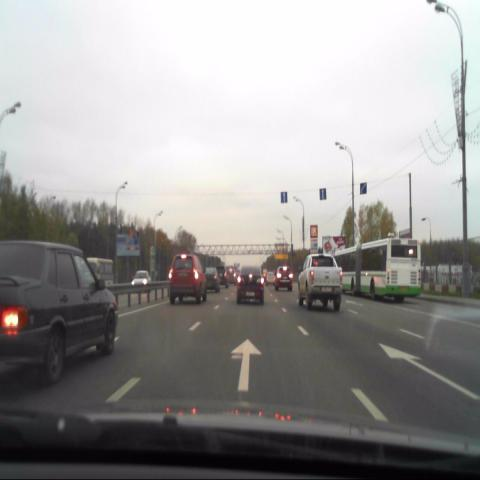5_15_2: (280, 191, 287, 204), (319, 188, 326, 201), (360, 182, 366, 194)
